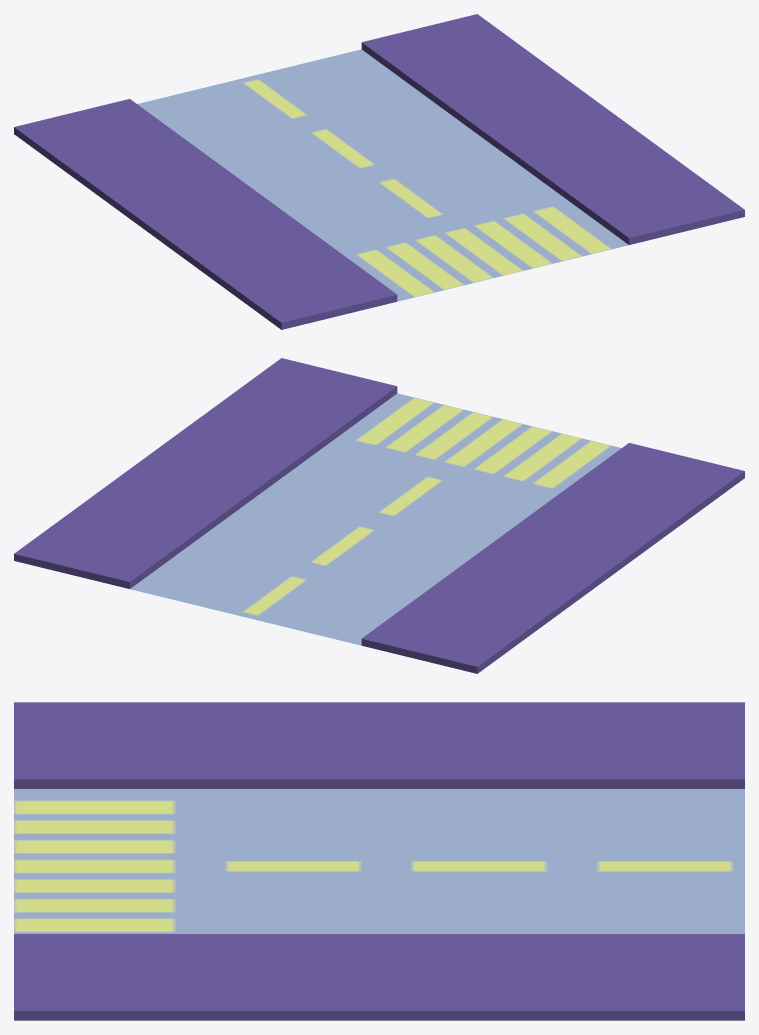
File: road5.fbx
The picture shows the model from 3 angles, top to bottom: view 1: azimuth 30°, elevation 25°; view 2: azimuth 150°, elevation 25°; view 3: azimuth 270°, elevation 25°; orthographic projection. The views are drawn at different scales.
Parts seen in each view (by area): view 1: Plane.006; view 2: Plane.006; view 3: Plane.006.
Boxes of the visible parts, x1,y1,x2,y2 form: Plane.006: (14,14,744,329); Plane.006: (14,358,744,673); Plane.006: (14,702,744,1020).
Bounding box in the file's own units: 4 × 0.0582 × 4.
1 material, 1 textured.
